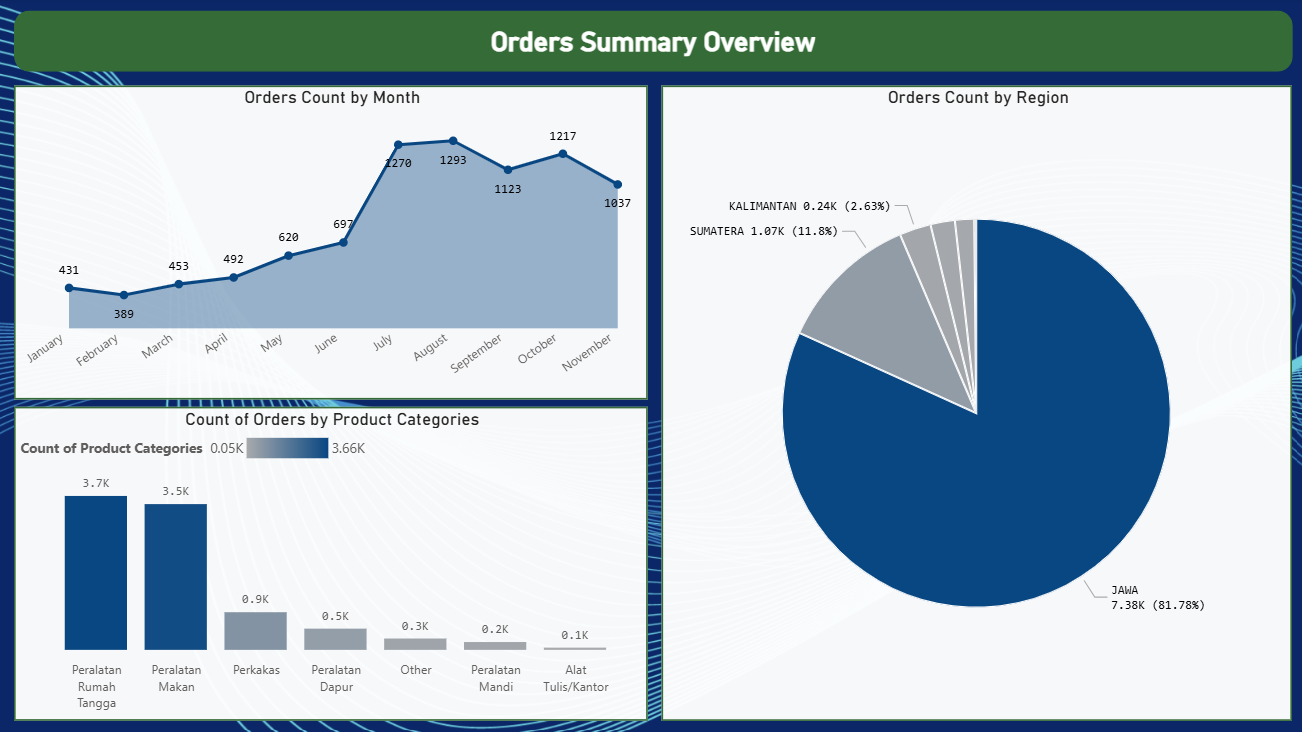

The page's visual inventory and layout, read from the dashboard file:
{"tool":"powerbi","page":{"name":"Page 1","canvas":[1280,720],"ordinal":0},"visuals":[{"type":"lineChart","title":"Orders Count by Month","fields":{"Category":["Indonesia E-Commerce Sales & Shipping 2023–2025.Tanggal Pemesanan.Variation.Date Hierarchy.Year","Indonesia E-Commerce Sales & Shipping 2023–2025.Tanggal Pemesanan.Variation.Date Hierarchy.Quarter","Indonesia E-Commerce Sales & Shipping 2023–2025.Tanggal Pemesanan.Variation.Date Hierarchy.Month","Indonesia E-Commerce Sales & Shipping 2023–2025.Tanggal Pemesanan.Variation.Date Hierarchy.Day"],"Y":["CountNonNull(Indonesia E-Commerce Sales & Shipping 2023–2025.order_id)"]},"box":[14.3,85.1,619.7,307.2],"z":0},{"type":"clusteredColumnChart","title":"Count of Orders by Product Categories","fields":{"Category":["Indonesia E-Commerce Sales & Shipping 2023–2025.Product Categories"],"Y":["CountNonNull(Indonesia E-Commerce Sales & Shipping 2023–2025.order_id)"]},"box":[14.3,399.4,619.7,307.2],"z":1000},{"type":"shape","box":[14.3,11.6,1251,60],"z":2000},{"type":"pieChart","title":"Orders Count by Region","fields":{"Category":["Indonesia E-Commerce Sales & Shipping 2023–2025.Pulau"],"Y":["CountNonNull(Indonesia E-Commerce Sales & Shipping 2023–2025.order_id)"]},"box":[648.4,85.1,617,621.5],"z":3000}]}

Visuals, with their boxes in screenshot pixels (x1, y1, x2, y2), scaled from the page's 1280x720 canvas onto the 1302x732 screenshot:
"Orders Count by Month" lineChart: [15, 87, 645, 399]
"Count of Orders by Product Categories" clusteredColumnChart: [15, 406, 645, 718]
shape: [15, 12, 1287, 73]
"Orders Count by Region" pieChart: [660, 87, 1287, 718]
